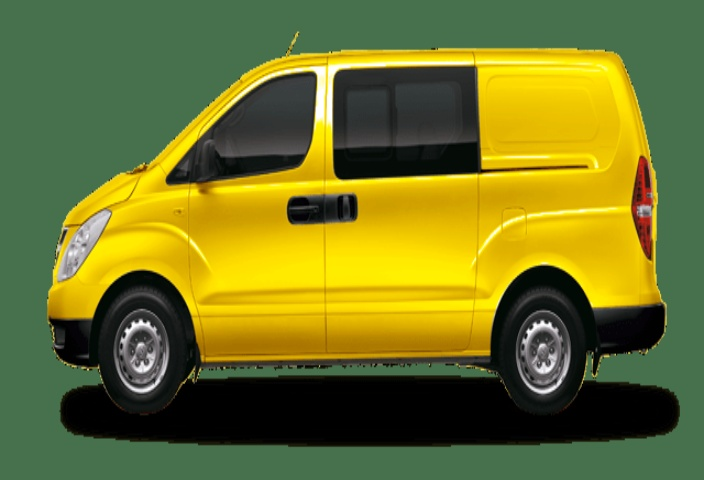van: (44, 52, 677, 412)
